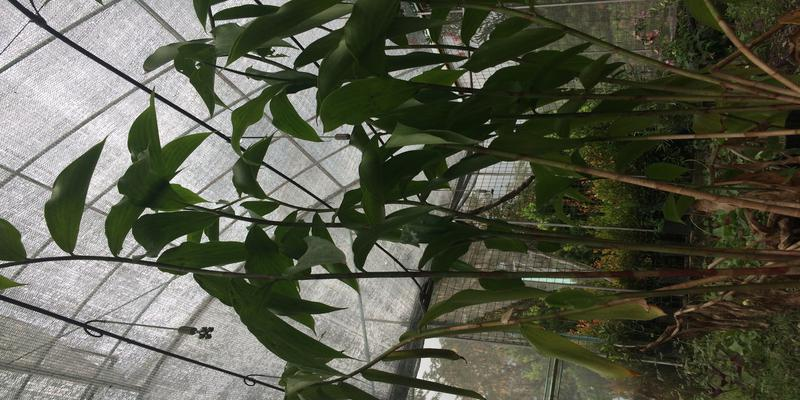Insulin: (142, 17, 766, 286)
